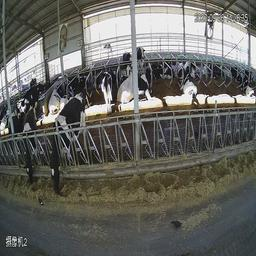cow: (45, 87, 88, 197), (18, 99, 39, 191), (94, 64, 115, 119), (174, 63, 200, 106), (17, 79, 44, 109), (139, 66, 158, 105), (47, 78, 67, 115), (116, 65, 133, 108), (234, 66, 255, 100), (203, 57, 220, 83), (138, 39, 149, 65), (161, 59, 174, 80)
